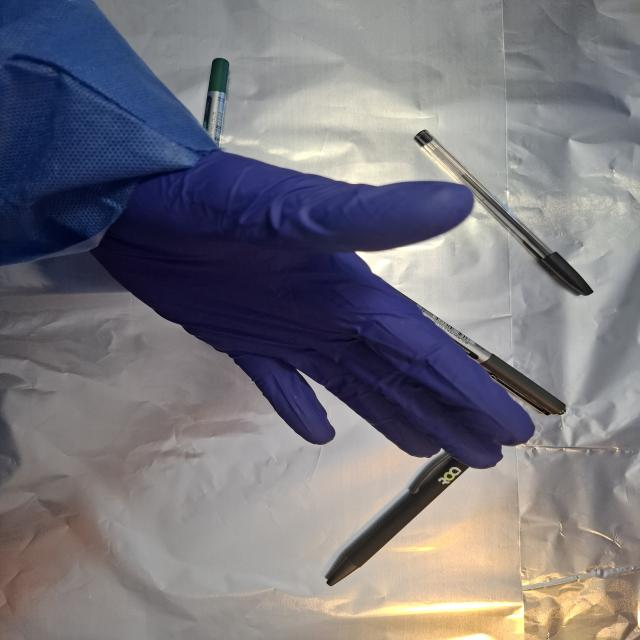glove_on: (86, 145, 539, 472)
